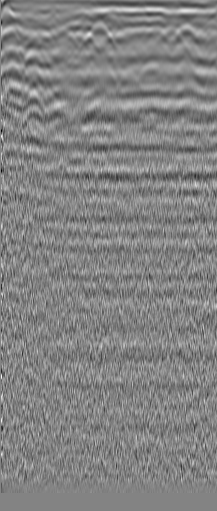오수: (23, 31, 43, 51)
우수: (160, 26, 180, 46)
